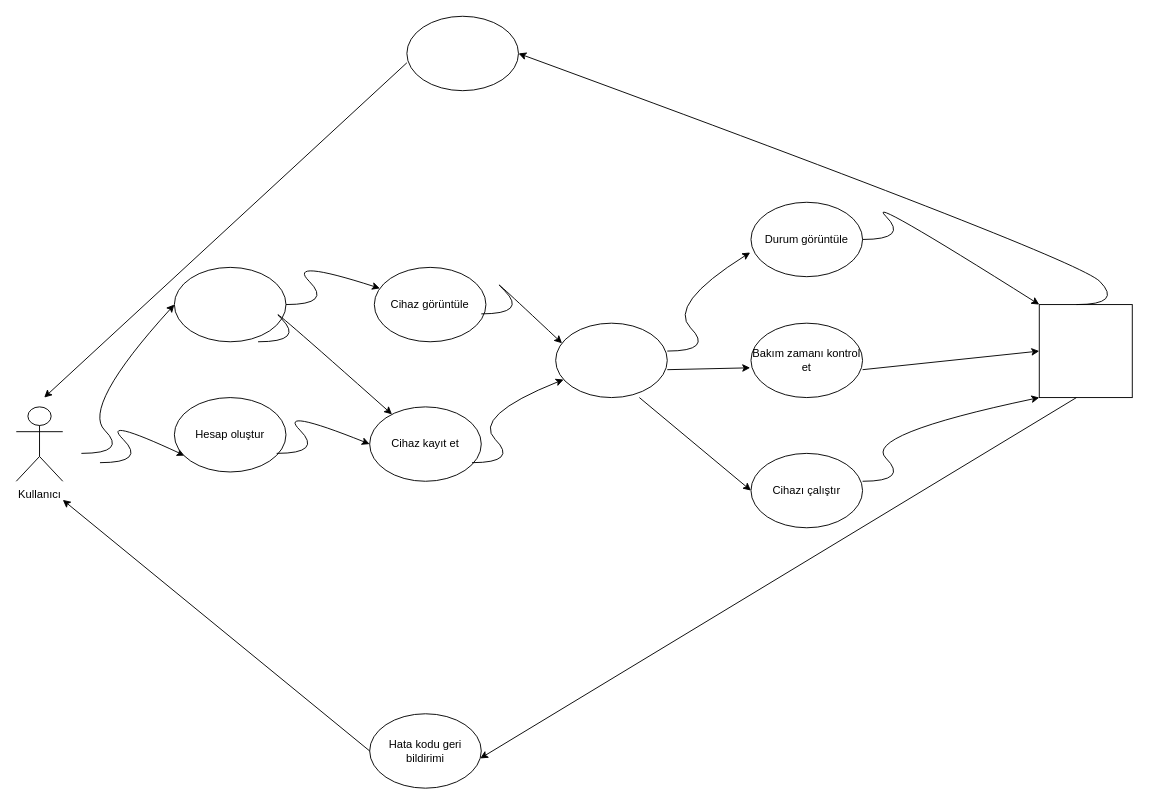
Image size: 1149x804. Some labels were removed from this diagram. Each missing label, with the box of its shape:
Bulut aracılığyla cihaza bağlanma: (555, 322, 667, 398)
Cihaz: (1038, 304, 1132, 398)
Durum geri bildirimi: (406, 15, 518, 91)
Oturum aç: (173, 266, 286, 342)
